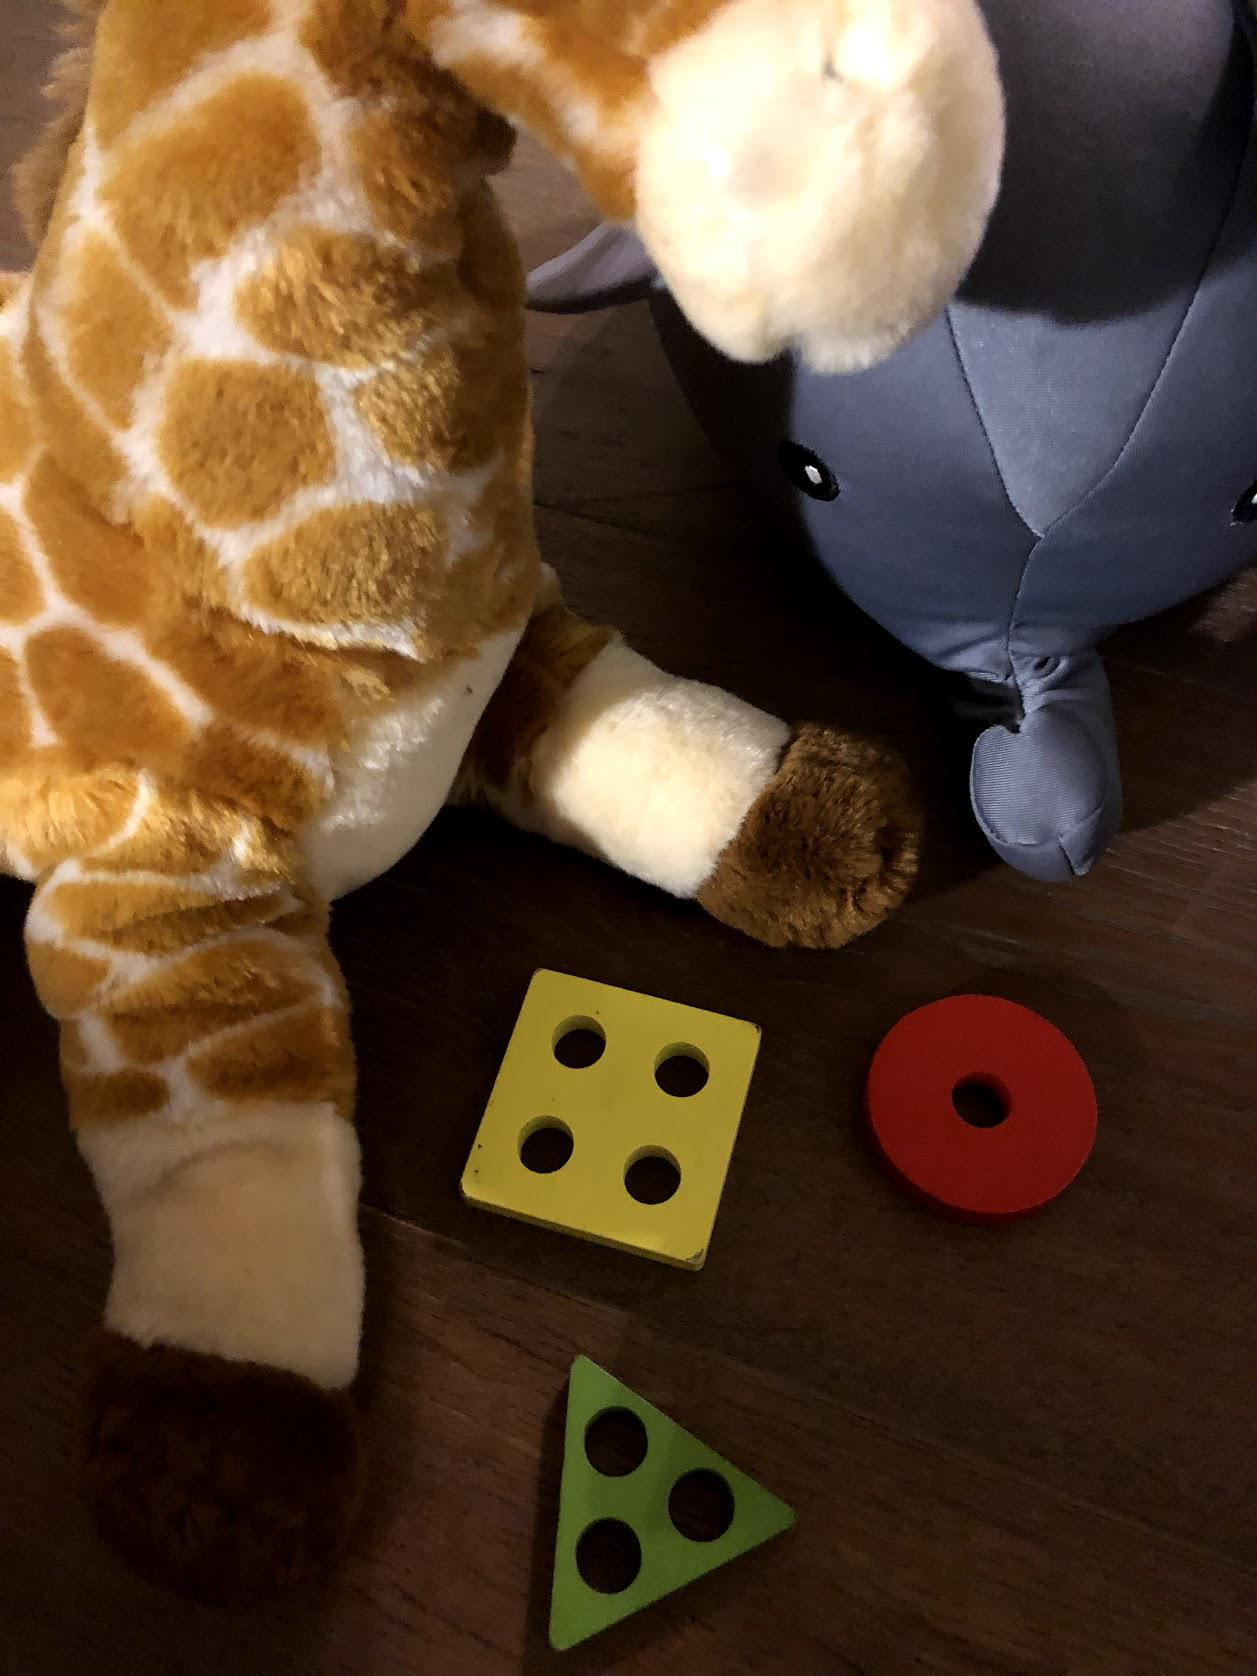Circle: (857, 984, 1105, 1222)
Square: (453, 963, 770, 1268)
Triangle: (545, 1354, 804, 1652)
